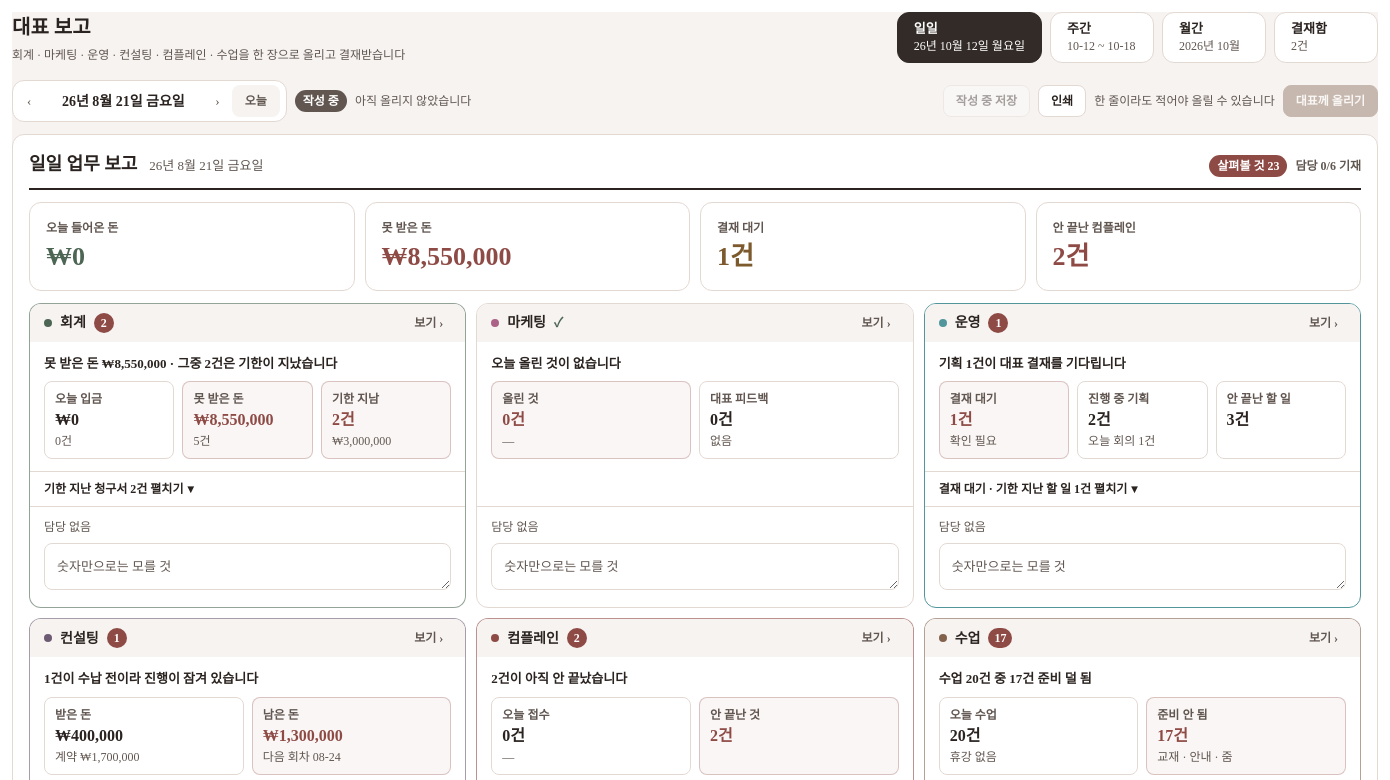
it: 하나도 안 적으면 올릴 수 없다 (D-R14) — 숫자는 이 화면이 이미 보여 준다
Expected: the button "대표께 올리기" is disabled, [1283,85,1378,117]
Expected: the text "한 줄이라도 적어야 올릴 수 있습니다" is shown, [1094,92,1275,110]
Type "한 줄" into the text box named "운영 메모" at (1142, 567), box [939,543,1346,590]
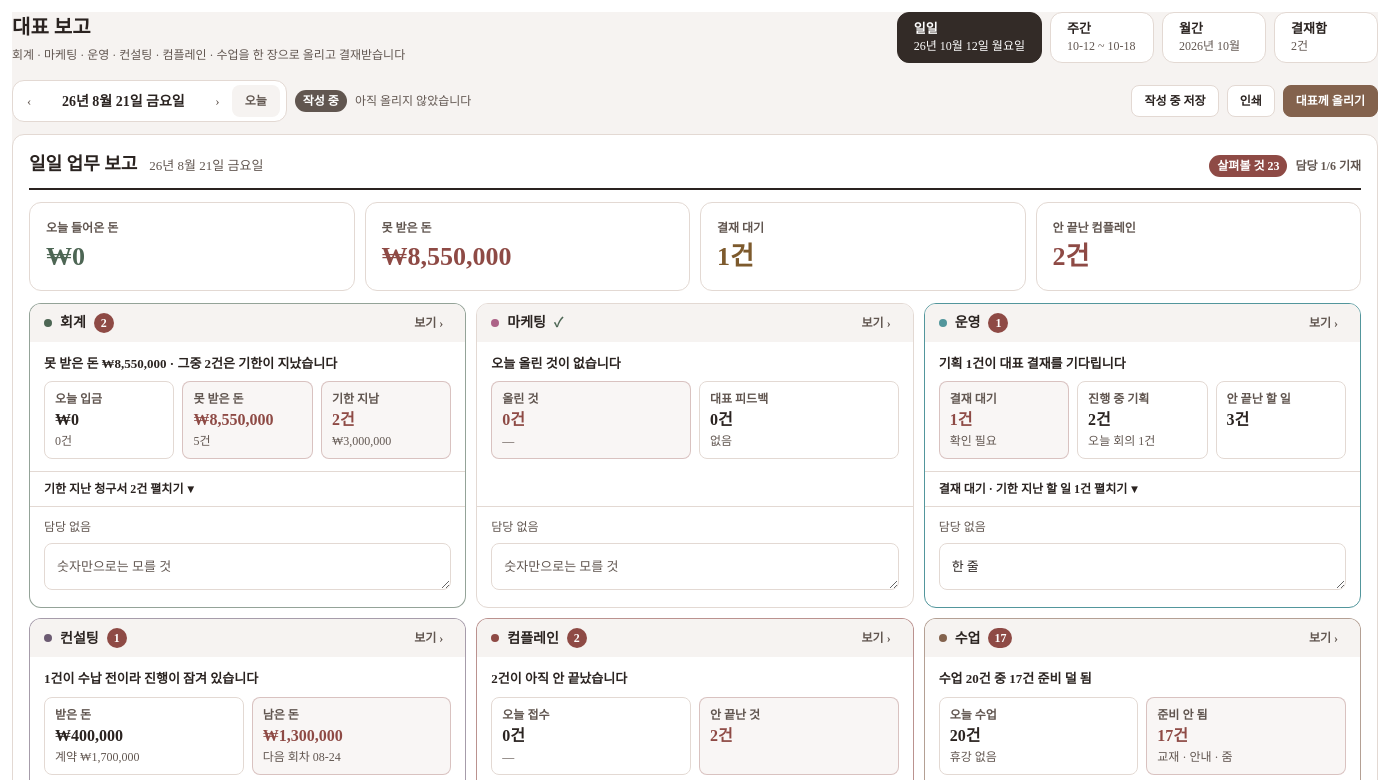
Result: the button "대표께 올리기" is enabled at [1283,85,1378,117]
Result: the text "한 줄이라도 적어야 올릴 수 있습니다" is gone
